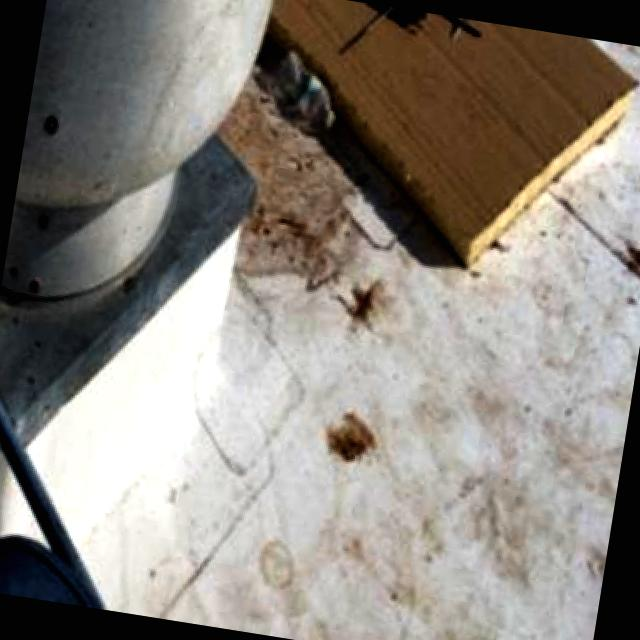RTU: (0, 0, 336, 370)
